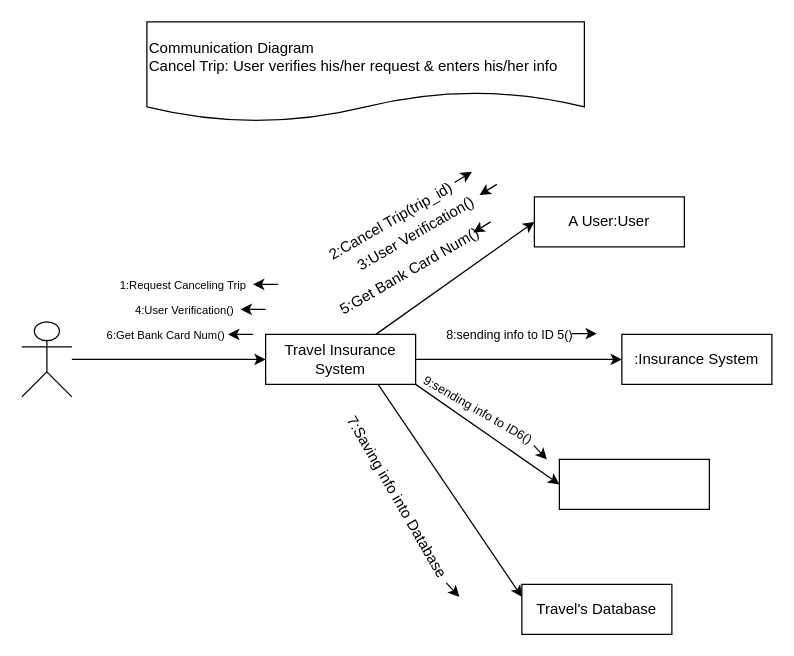
Image size: 794x656. Some labels were removed from this diagram. The shapes that lost their labels are listed below. From the top down, each one's box as (x1, y1, x2, y2) in pixels, then its label:
(21, 321, 72, 397): A User
(558, 458, 709, 509): :Airline System
